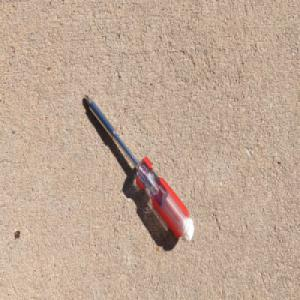Screwdriver: (82, 91, 196, 246)
